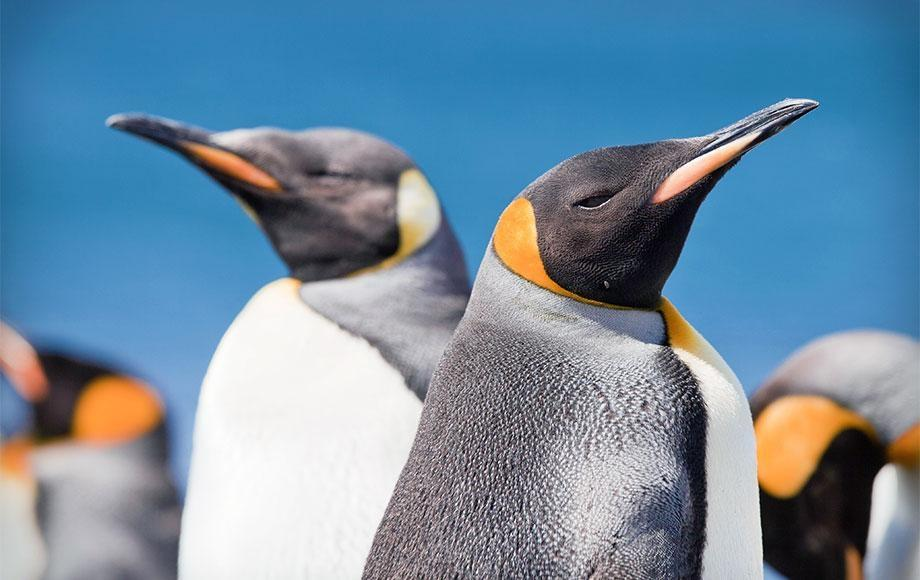Penguin: (363, 99, 817, 578), (108, 115, 469, 578), (0, 313, 179, 578), (752, 330, 919, 578)
